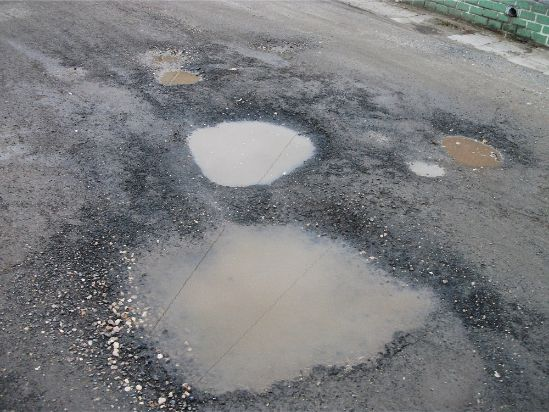pothole: (106, 208, 456, 403), (178, 108, 322, 192), (436, 125, 515, 169), (138, 46, 210, 90)
